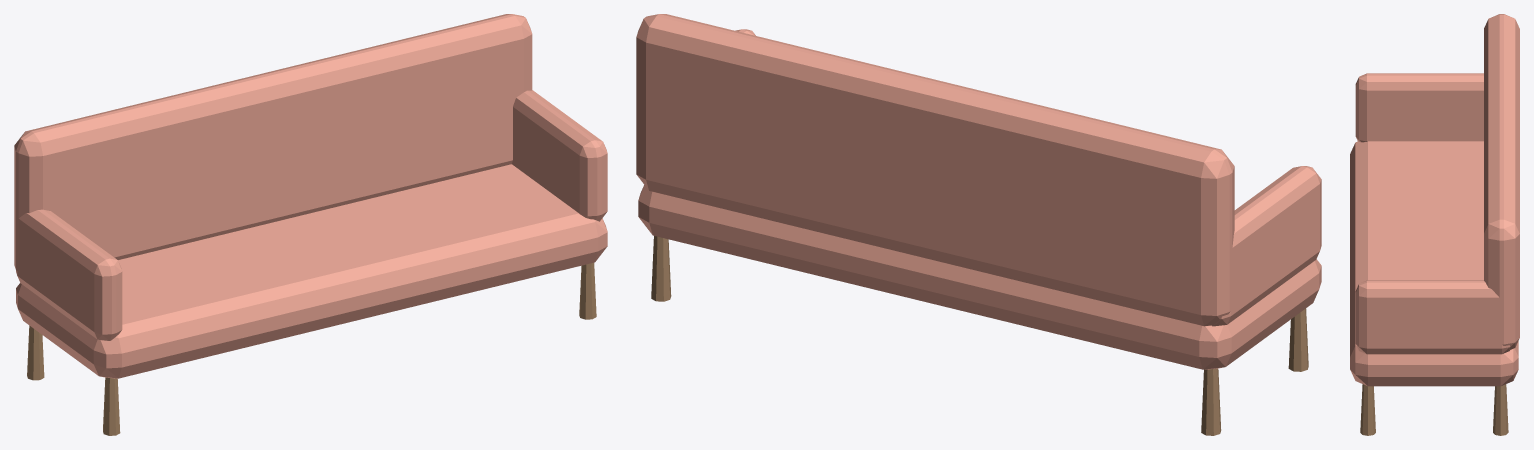
Rendered from cozy-home-interiors-sofa-three-seat-8d2d33f9.glb.
The picture shows the model from 3 angles, left to right: view 1: azimuth 30°, elevation 25°; view 2: azimuth 150°, elevation 25°; view 3: azimuth 270°, elevation 25°; orthographic projection. The views are drawn at different scales.
Parts seen in each view (by area): view 1: sofa-three-seat; view 2: sofa-three-seat; view 3: sofa-three-seat.
Boxes of the visible parts, left/top/right/bottom form: sofa-three-seat: left=14, top=14, right=607, bottom=435; sofa-three-seat: left=636, top=14, right=1321, bottom=435; sofa-three-seat: left=1350, top=14, right=1519, bottom=435.
Bounding box in the file's own units: 2.3 × 1.05 × 0.7551.
